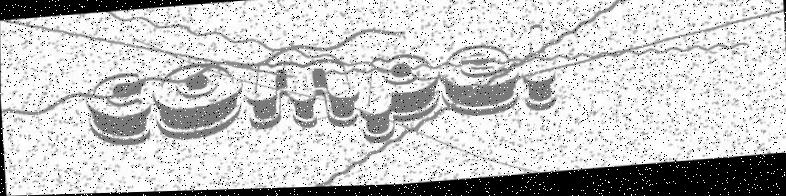c: (75, 69, 156, 151)
e: (436, 41, 523, 121)
l: (517, 25, 566, 117)
m: (241, 54, 362, 139)
o: (145, 56, 246, 144)
p: (355, 51, 447, 146)
